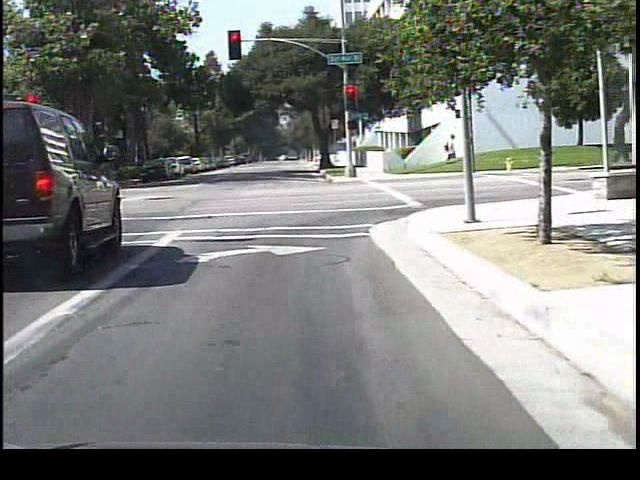person: (438, 127, 461, 161)
